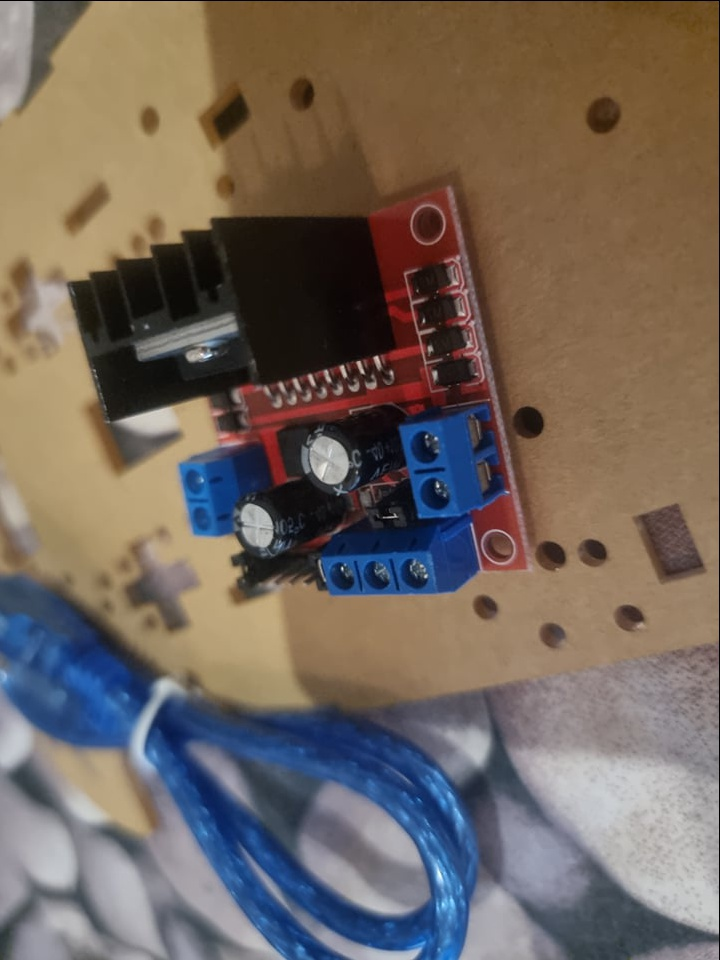MOTOR: (64, 177, 536, 598)
